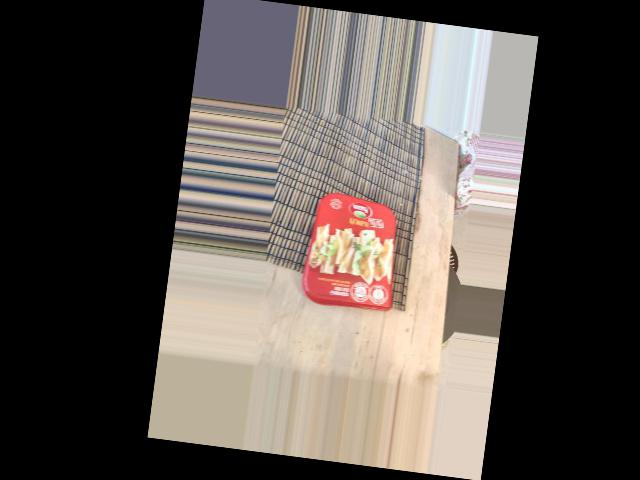cheese: (308, 192, 398, 316)
